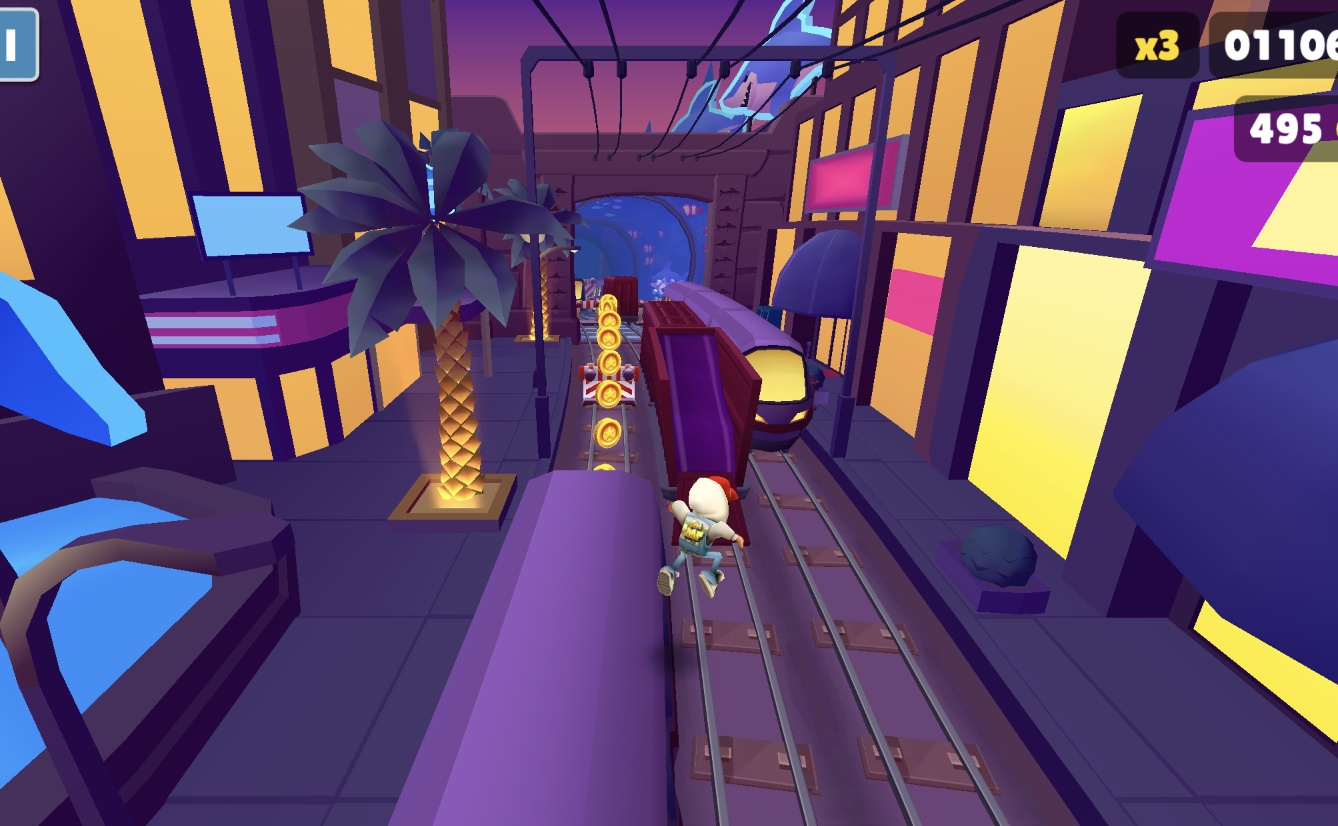train: (382, 472, 667, 826), (642, 314, 771, 539), (701, 289, 816, 442)
